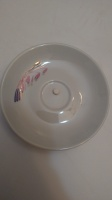Yuvarlak Buskopan: (52, 87, 61, 95)
